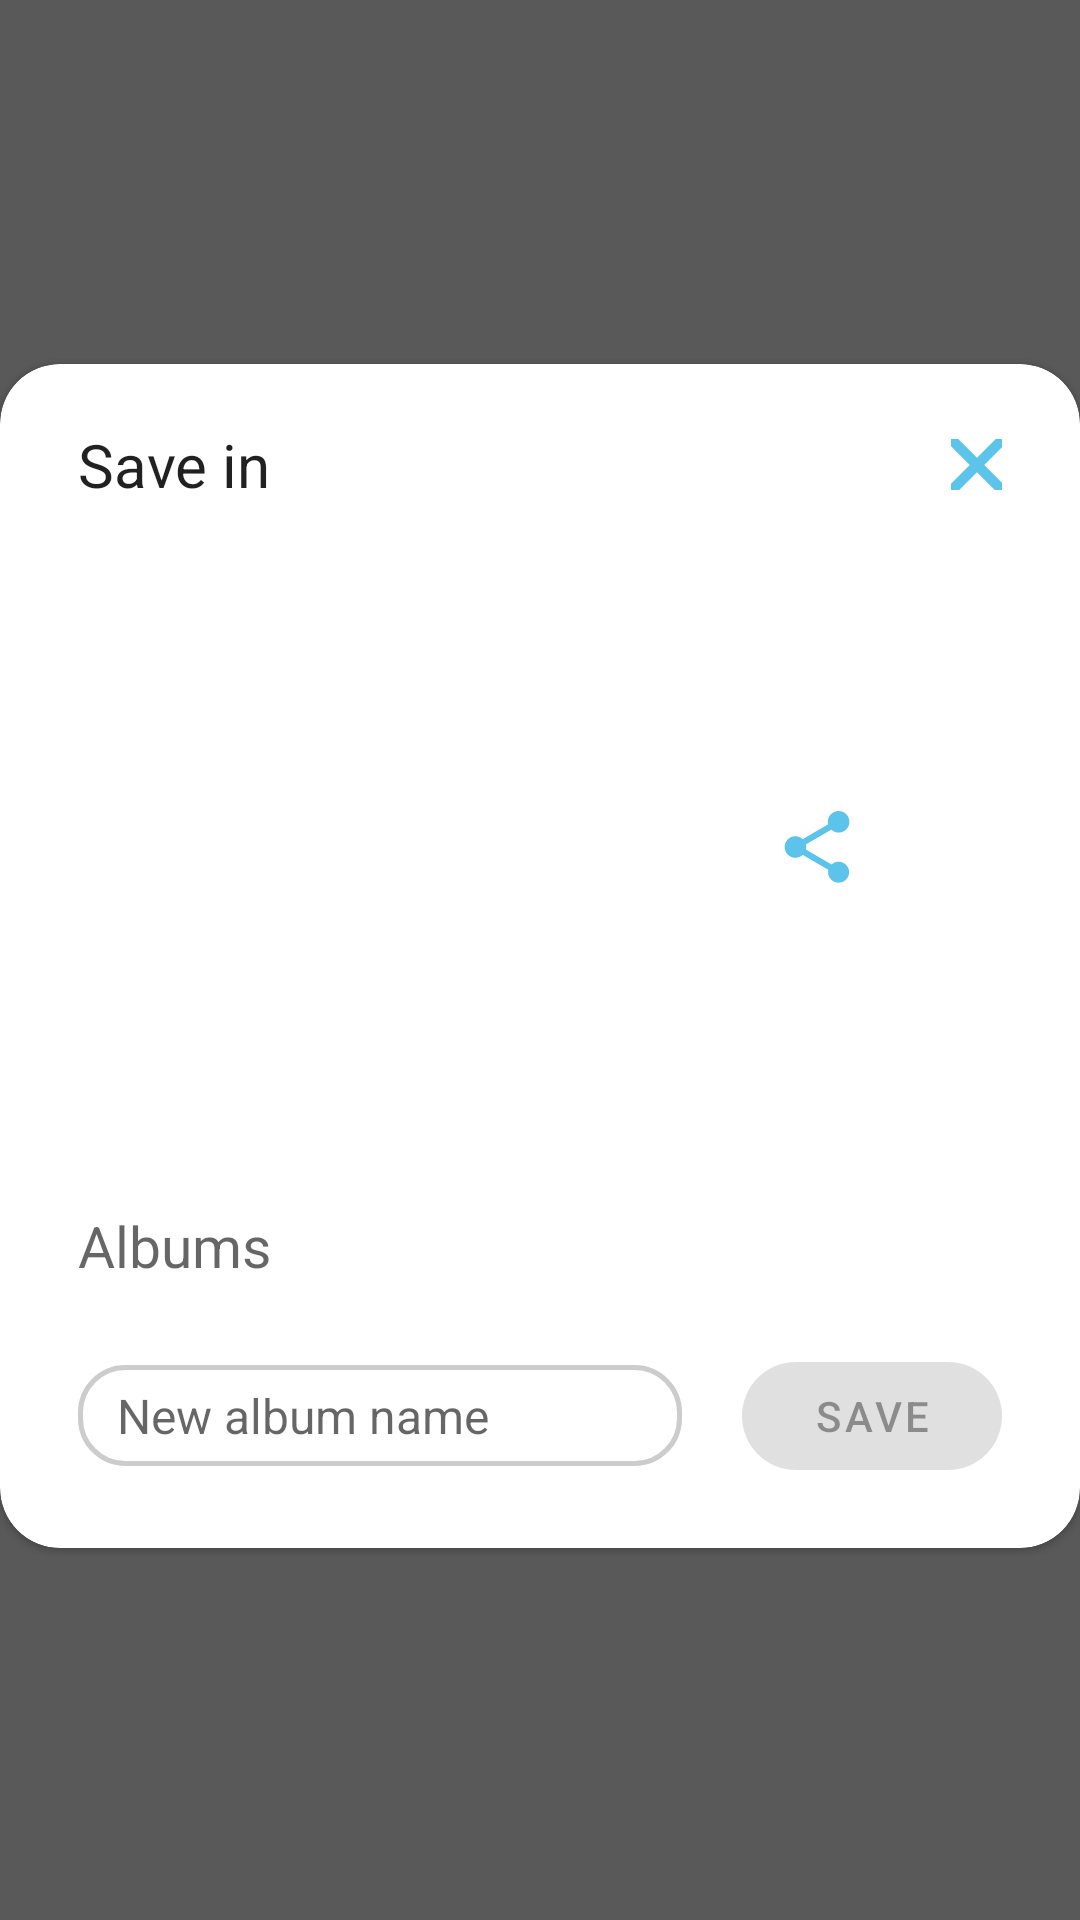

Icon click points for this 1080x1920 phone screenshot, format (x=x, y=y):
close: (x=976, y=464)
share: (x=817, y=847)
